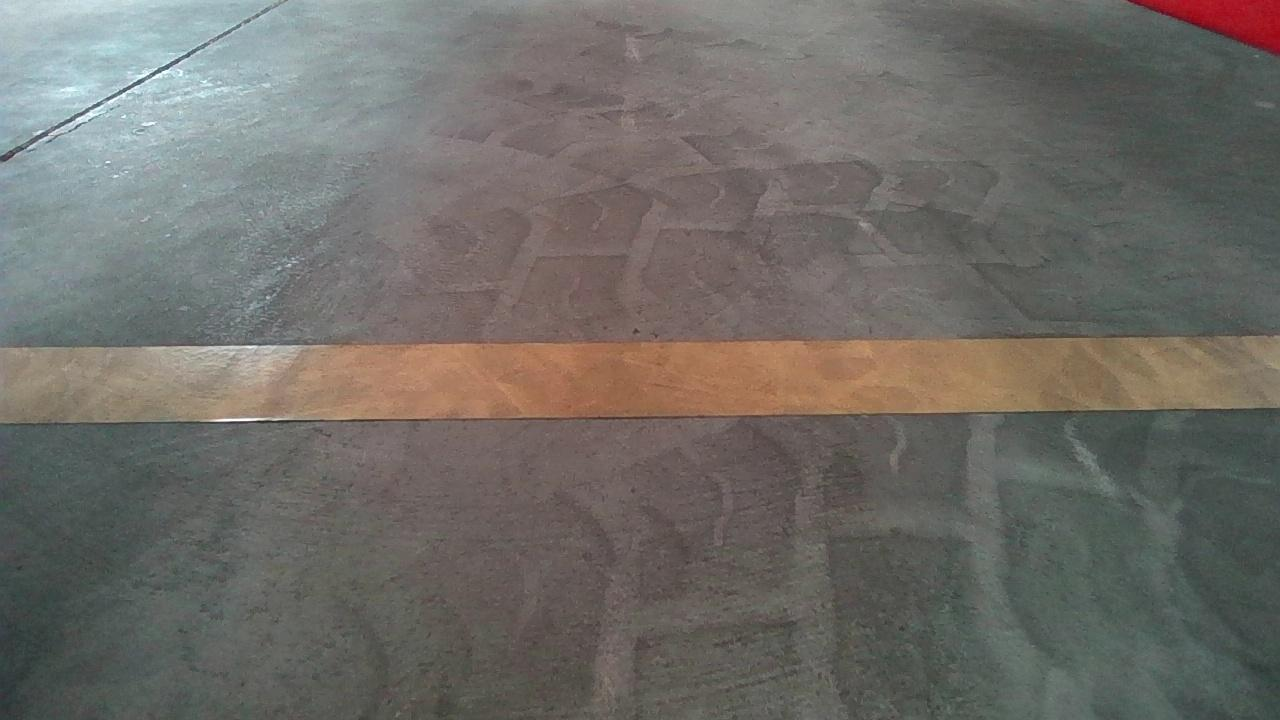yellow_line: (6, 332, 1272, 422)
